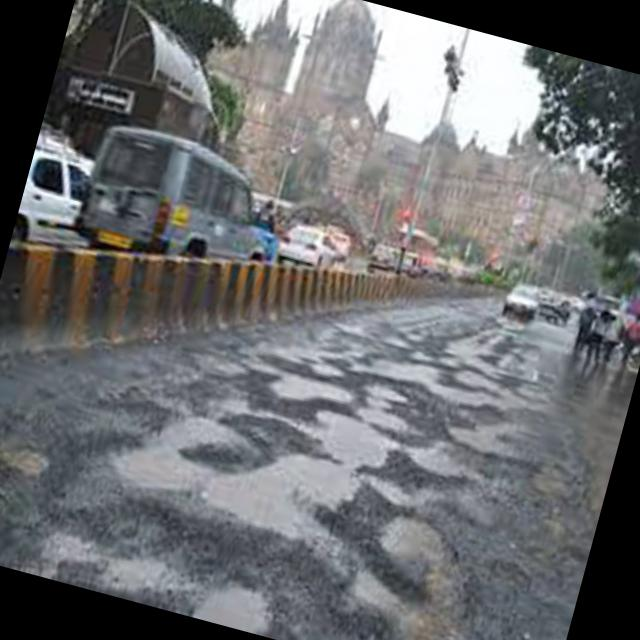Potholes: (99, 346, 531, 640), (364, 340, 558, 440)
